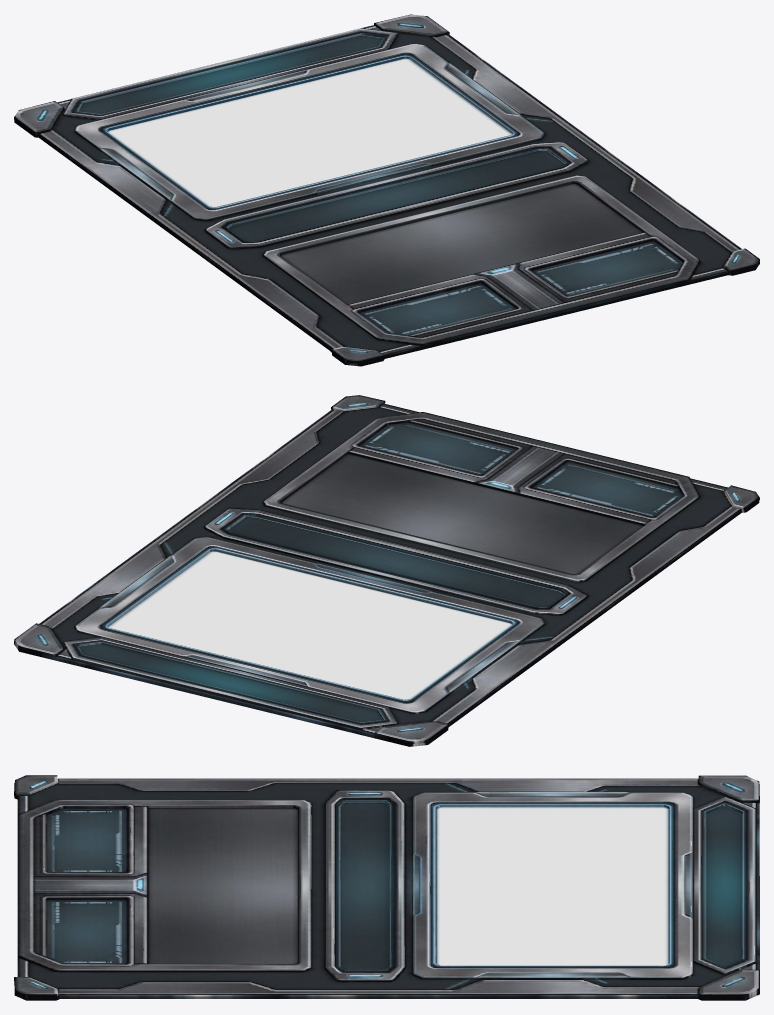
Rendered from genericcard.glb.
3 views of the same model, one above another, from view 1: azimuth 30°, elevation 25°; view 2: azimuth 150°, elevation 25°; view 3: azimuth 270°, elevation 25° (orthographic). The views are drawn at different scales.
Parts seen in each view (by area): view 1: Card; view 2: Card; view 3: Card.
Boxes of the visible parts, box(x1,y1,x2,y2) form: Card: box(14, 14, 759, 366); Card: box(14, 395, 759, 746); Card: box(14, 775, 759, 1000).
Size of the model in its own units: 0.0636 by 0.000865 by 0.0912.
8 materials, 8 textured.
